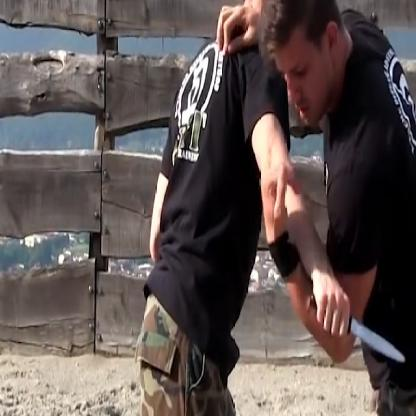knife: (306, 275, 412, 376)
